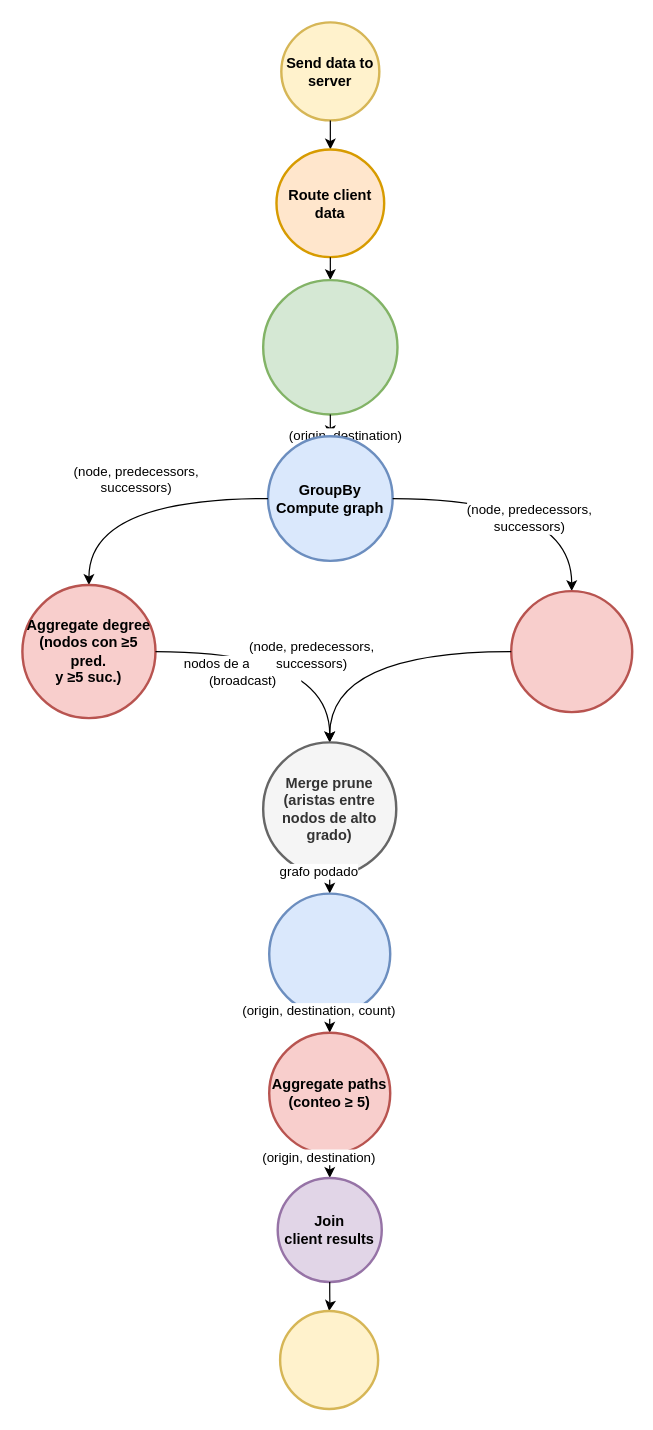
Some shapes in this 653 by 1430 pixel diagram are drawn without their labels. Here are the shapes that lost their labels. From the top down, the box of each, then its label:
(261, 278, 398, 415): Filter transactions By currency USD And period A
(509, 589, 633, 713): Aggregate graphs
(267, 892, 391, 1015): Count paths
(278, 1309, 379, 1410): Send UC4 response to client
